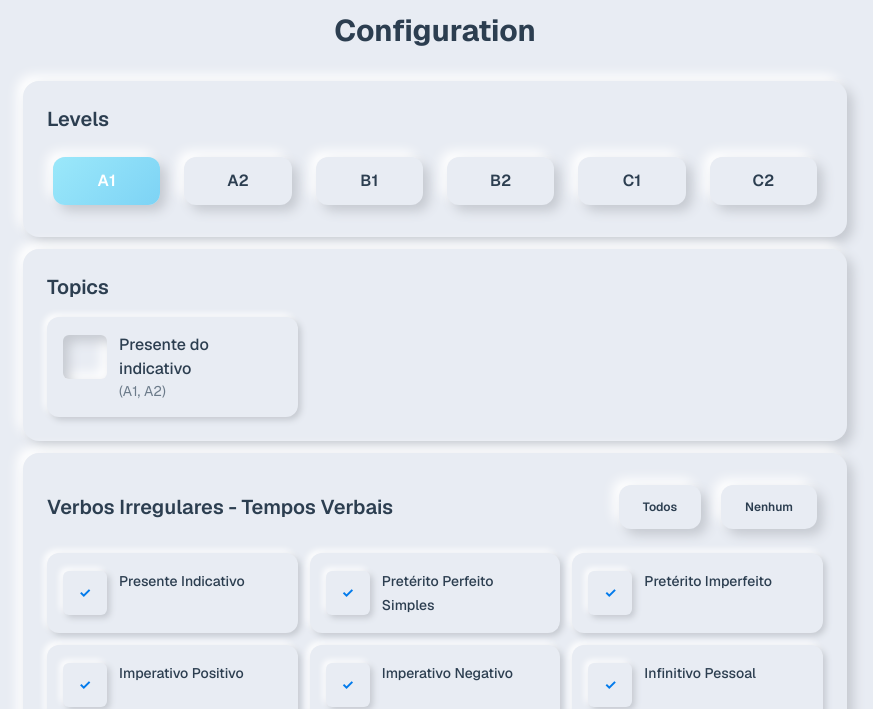
Scenario: Configuration Component › should disable save button when no levels are selected
# Unselect all levels (A1 is initially selected)
Click the button "A1" at (107, 181), box [53,157,160,205]
(page scrolled)
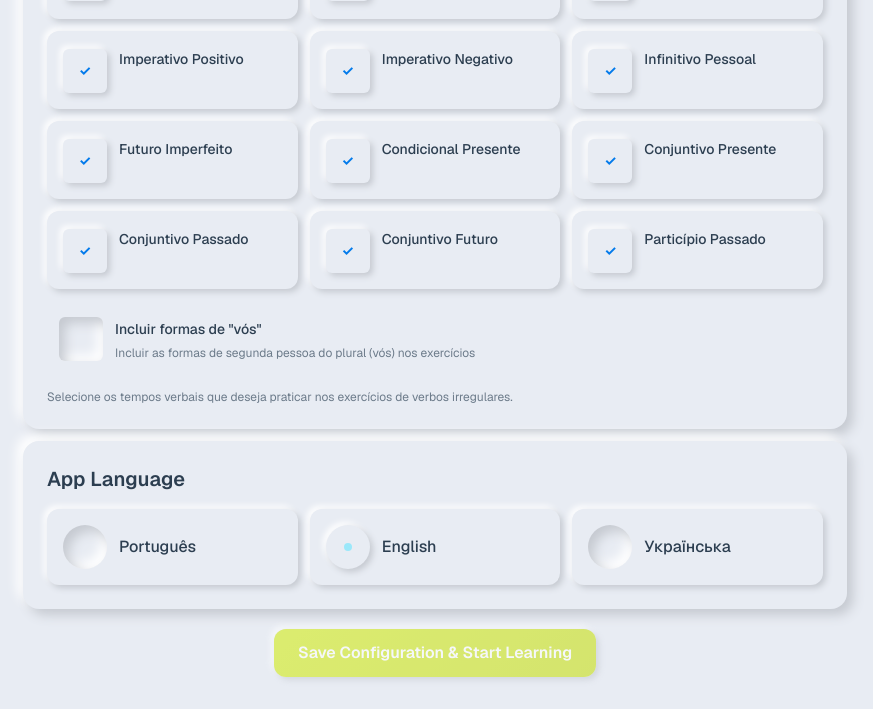
Expected: the button "Save Configuration & Start Learning" is disabled, [274,629,596,677]
